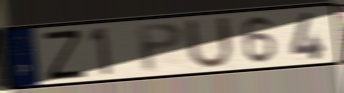1: (87, 26, 116, 78)
4: (288, 9, 328, 63)
6: (239, 15, 279, 65)
P: (134, 20, 186, 74)
U: (183, 15, 237, 71)
Z: (40, 27, 88, 82)
